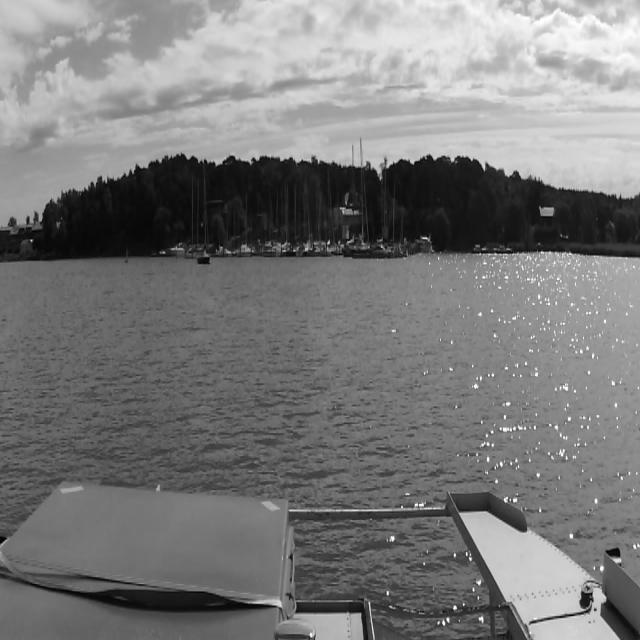ship: (345, 136, 365, 257), (371, 157, 391, 255), (323, 169, 343, 255), (391, 183, 408, 258), (198, 160, 210, 265), (296, 176, 310, 255), (282, 177, 293, 255), (186, 174, 196, 257), (265, 190, 277, 256), (240, 194, 252, 255), (415, 236, 433, 254), (165, 243, 185, 257), (494, 244, 512, 254), (216, 246, 234, 255), (474, 246, 484, 253), (482, 246, 488, 252)
